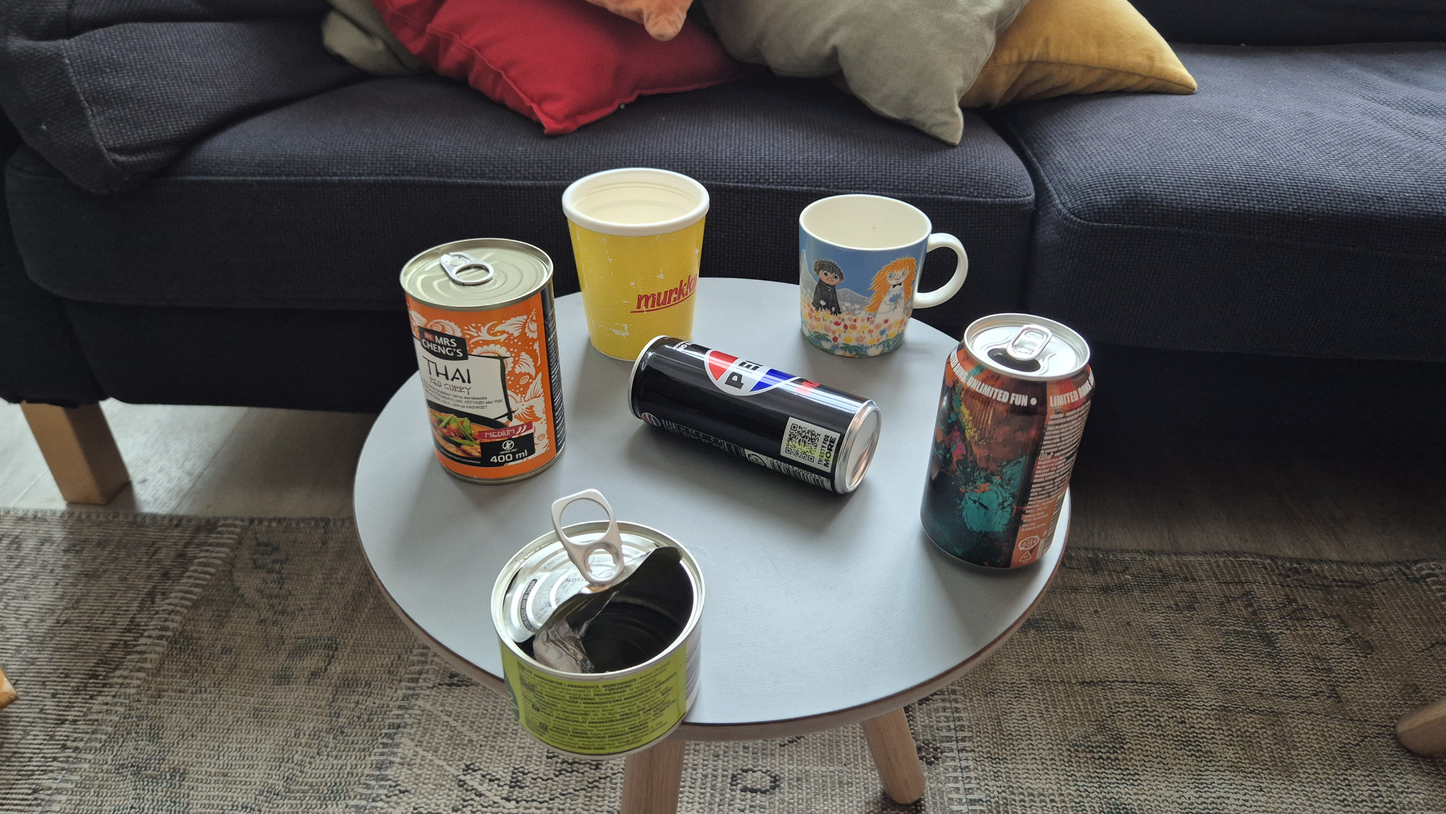Dryckeskartong: (489, 489, 706, 759), (399, 238, 567, 485)
Konservburk: (919, 312, 1094, 570), (627, 335, 881, 495)
